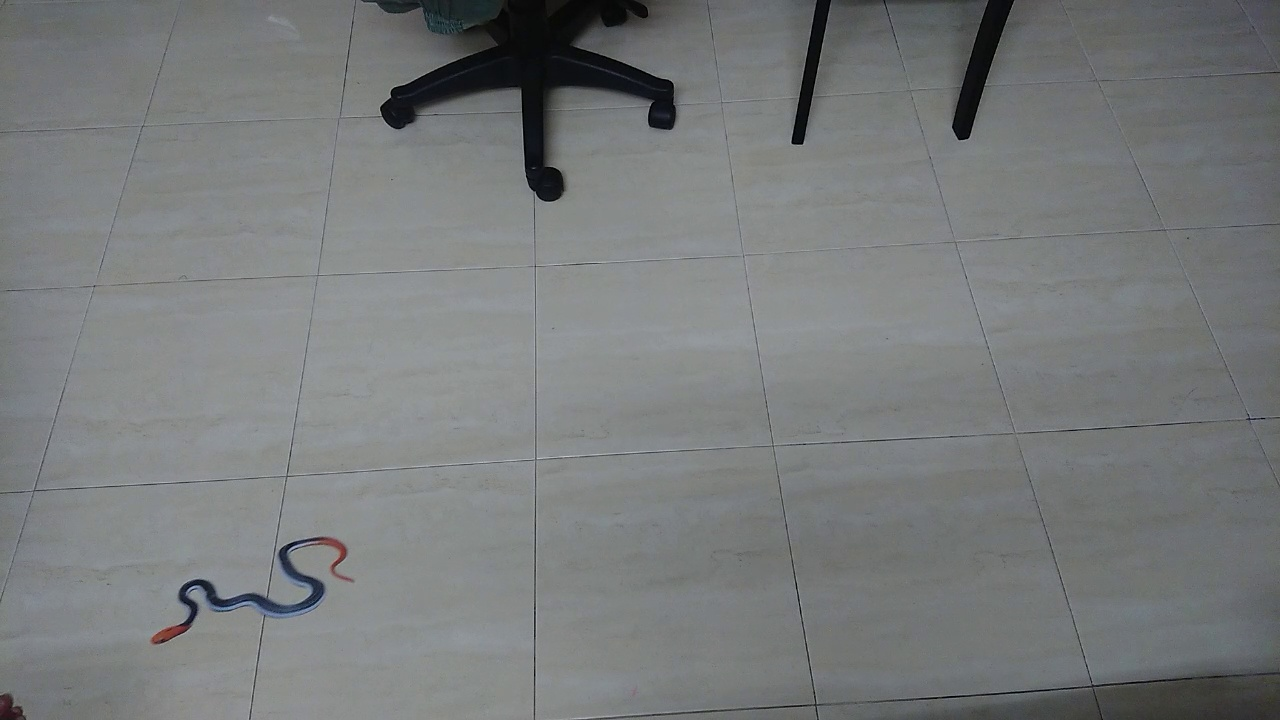snake: (135, 519, 366, 665)
